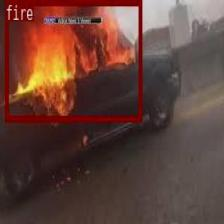fire: (4, 0, 142, 121)
